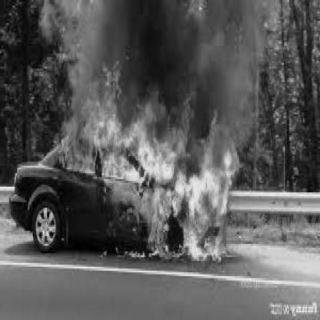Smoke: (204, 8, 244, 108)
